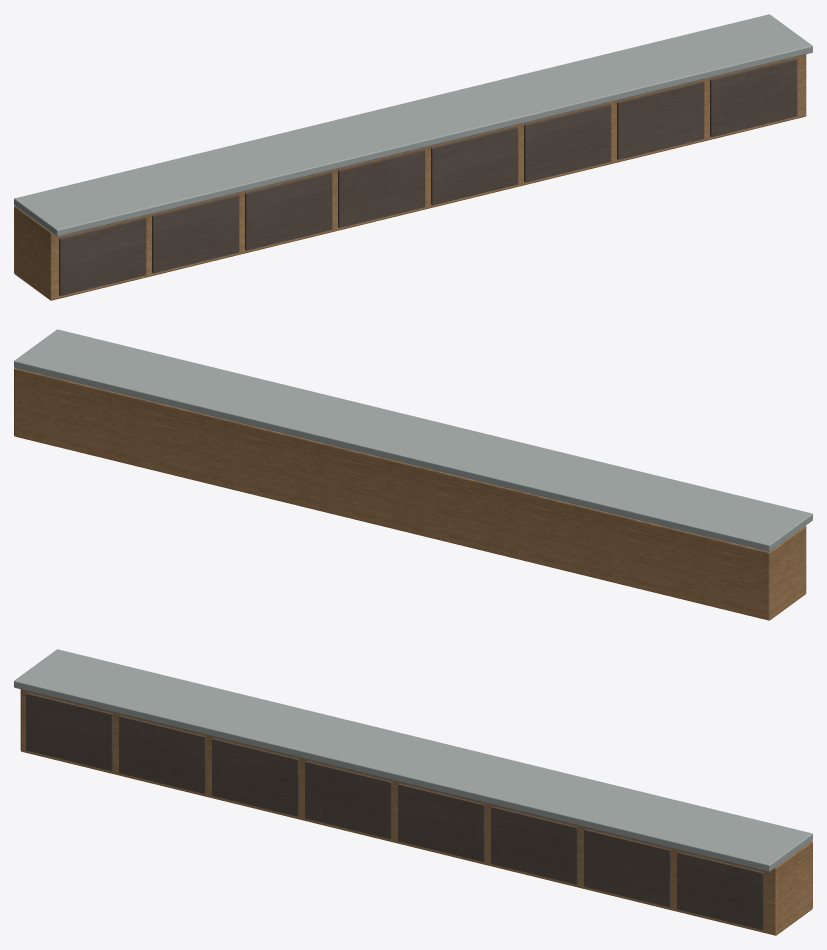
File: hiperreal.glb
3 renders of one model, top to bottom at view 1: azimuth 30°, elevation 25°; view 2: azimuth 150°, elevation 25°; view 3: azimuth 330°, elevation 25°, orthographic.
Parts seen in each view (by area): view 1: starbucksBackbar_1, starbucksBackbar_0, starbucksBackbar_2, starbucksBackbar_5, starbucksBackbar_4, starbucksBackbar_7, starbucksBackbar_8, starbucksBackbar_6, starbucksBackbar_9, starbucksBackbar_3; view 2: starbucksBackbar_0, starbucksBackbar_1; view 3: starbucksBackbar_1, starbucksBackbar_0, starbucksBackbar_3, starbucksBackbar_4, starbucksBackbar_7, starbucksBackbar_2, starbucksBackbar_6, starbucksBackbar_9, starbucksBackbar_8, starbucksBackbar_5.
Part boxes in pixels (x1,y1,x2,y2): starbucksBackbar_1: (14, 14, 812, 236); starbucksBackbar_0: (14, 54, 806, 300); starbucksBackbar_2: (59, 217, 146, 295); starbucksBackbar_5: (338, 149, 425, 227); starbucksBackbar_4: (245, 172, 332, 250); starbucksBackbar_7: (524, 104, 611, 182); starbucksBackbar_8: (617, 81, 704, 159); starbucksBackbar_6: (431, 126, 518, 205); starbucksBackbar_9: (710, 58, 797, 136); starbucksBackbar_3: (152, 194, 239, 273); starbucksBackbar_0: (14, 368, 806, 620); starbucksBackbar_1: (14, 329, 812, 551); starbucksBackbar_1: (14, 649, 812, 871); starbucksBackbar_0: (20, 689, 812, 935); starbucksBackbar_3: (119, 715, 206, 793); starbucksBackbar_4: (212, 738, 299, 816); starbucksBackbar_7: (491, 806, 578, 884); starbucksBackbar_2: (26, 692, 113, 771); starbucksBackbar_6: (398, 783, 485, 861); starbucksBackbar_9: (677, 851, 764, 929); starbucksBackbar_8: (584, 828, 671, 907); starbucksBackbar_5: (305, 760, 392, 839).
Bounding box in the file's own units: 10 × 0.96 × 1.
Materials: 3 (2 with a texture image).
